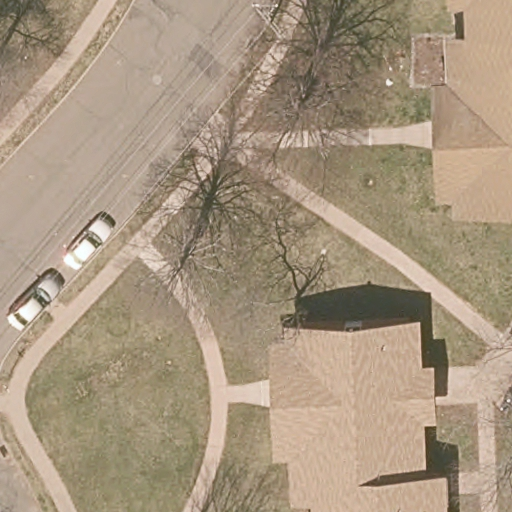DT: (251, 1, 282, 47)
